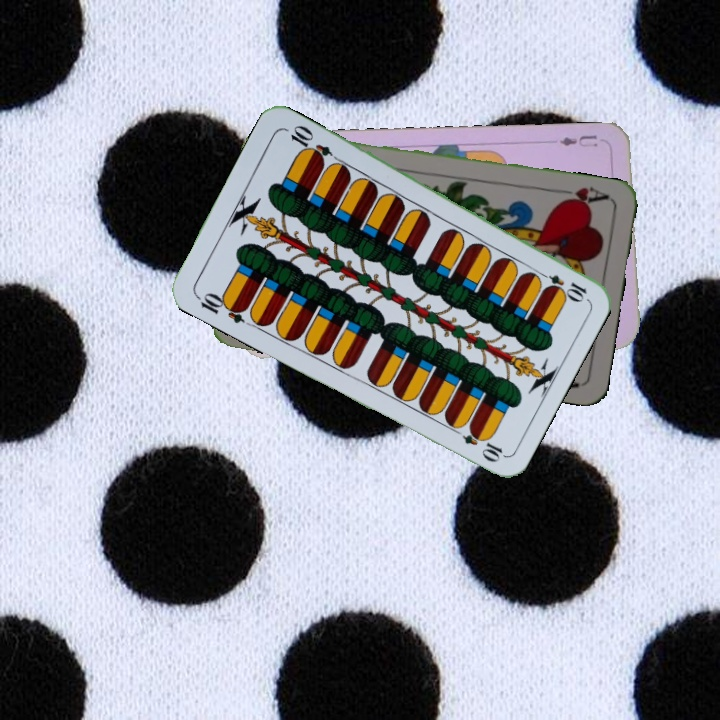E10: (192, 288, 250, 326), (533, 267, 590, 303)
EU: (556, 131, 600, 149)
HA: (553, 183, 612, 209)
